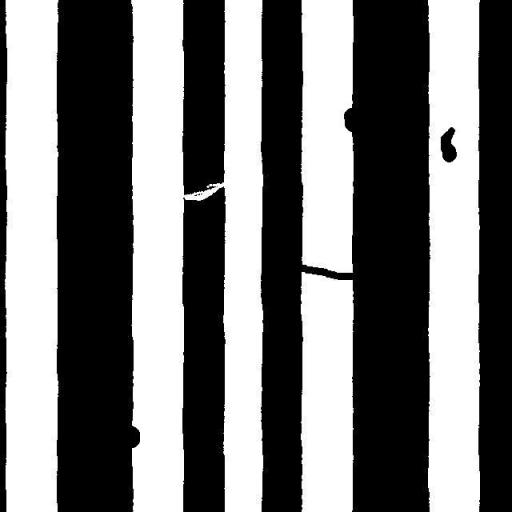copper: (433, 119, 464, 170)
open: (168, 173, 238, 208)
short: (291, 257, 364, 287)
spur: (336, 100, 370, 139), (114, 418, 148, 456)
